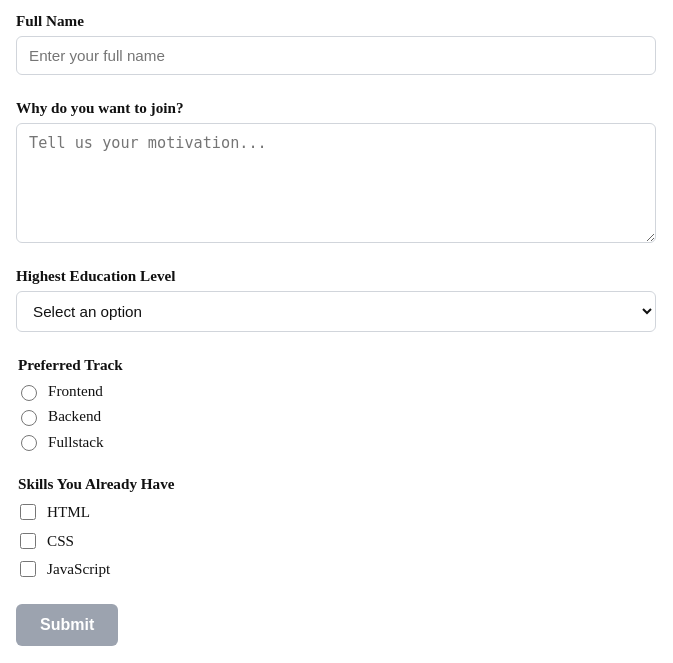
Scenario: QuestionRenderer › enables submit when all required fields are valid
The width and height of the screenshot is (673, 663).
Step 1. Type "Lennox Omondi" into the field labelled "Full Name" → (336, 56), box left=16, top=36, right=656, bottom=75
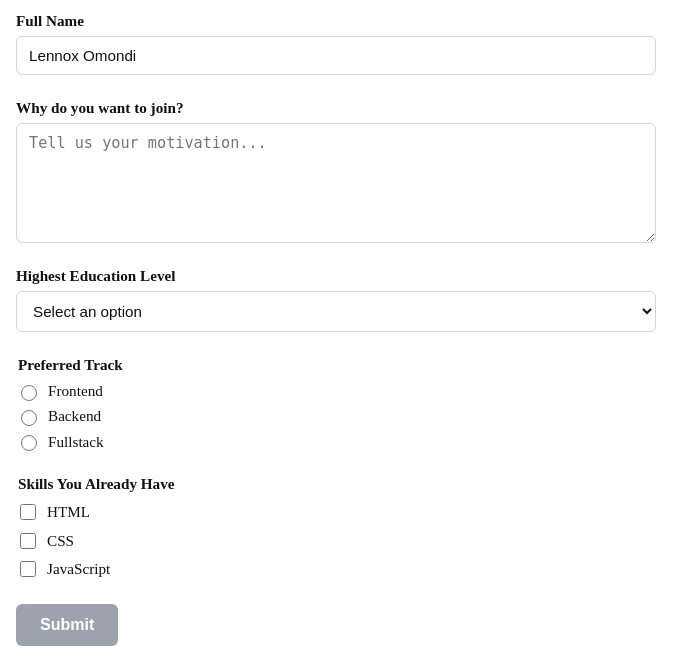
Step 2. Type "I want to join because I am serious about becoming a software engineer." into the text box labelled "Why do you want to join?" → (336, 183), box left=16, top=123, right=656, bottom=243
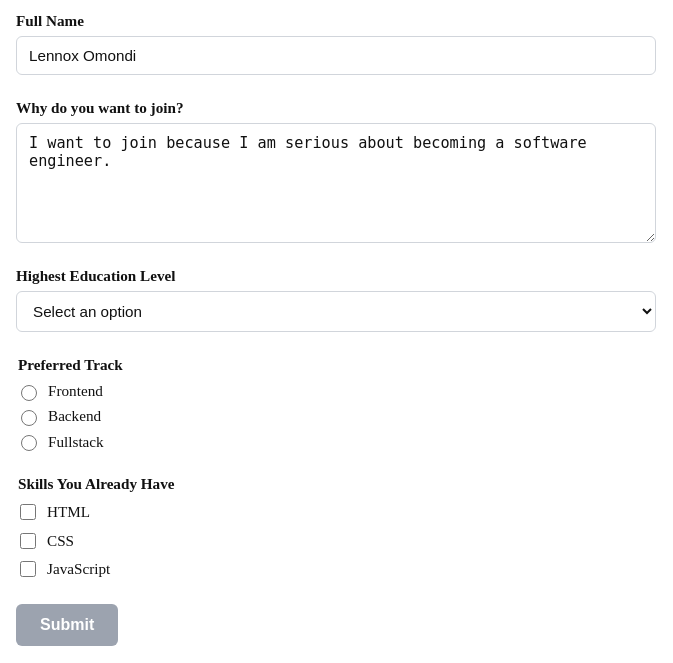
Step 3. Select "Bachelor's Degree" in the dropdown labelled "Highest Education Level" → (336, 312), box left=16, top=291, right=656, bottom=332
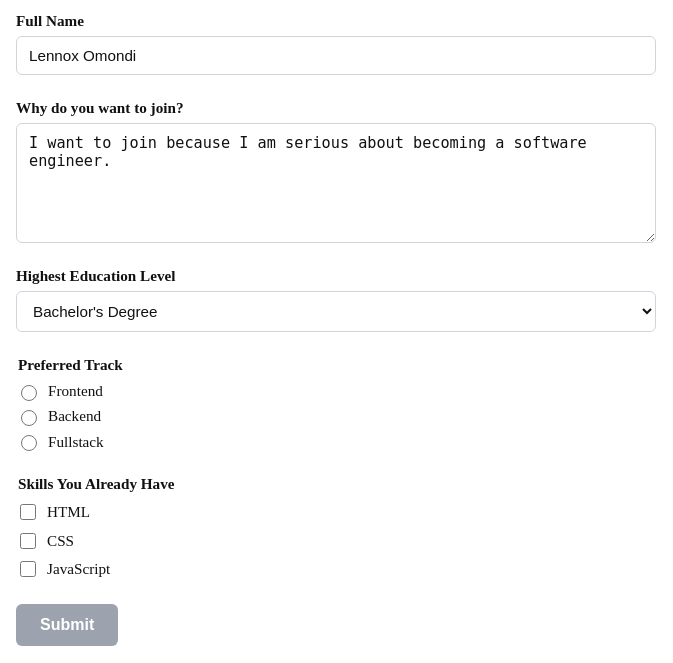
Step 4. Click the radio button labelled "Fullstack" → (29, 443), box left=21, top=435, right=37, bottom=451
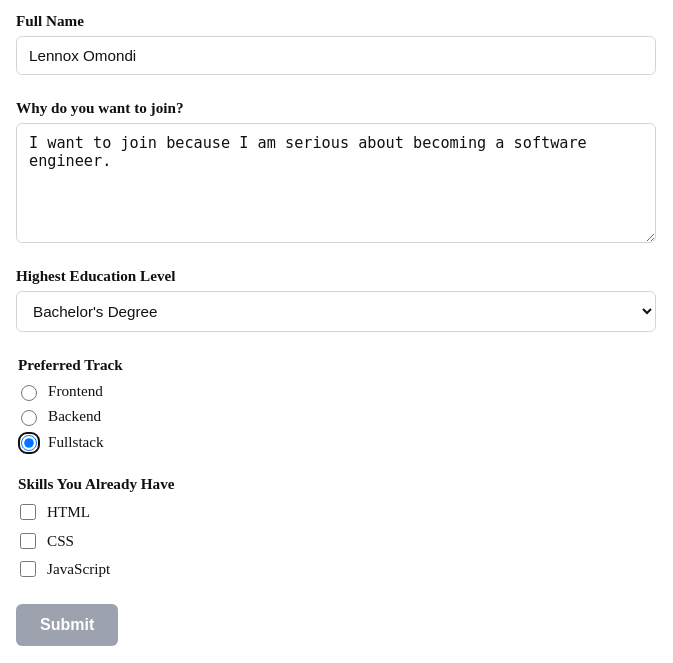
Step 5. Click the checkbox labelled "HTML" → (28, 512), box left=20, top=504, right=36, bottom=520
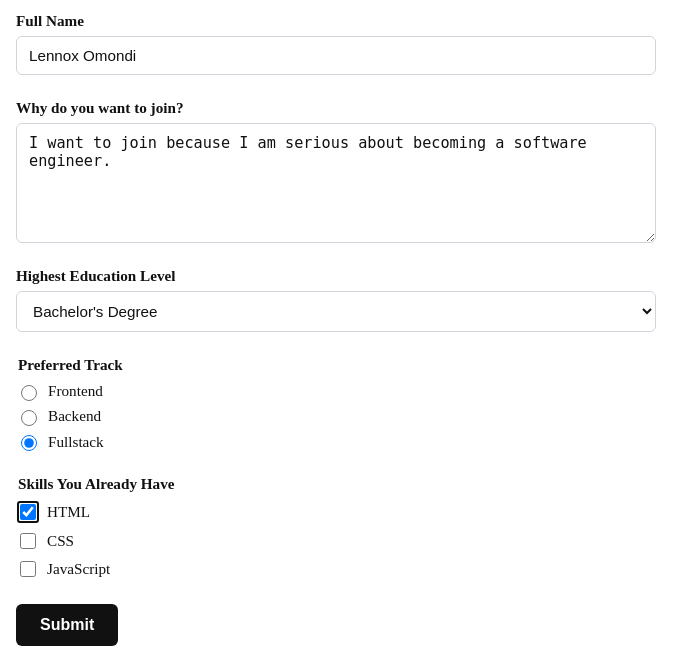
expect the button "Submit" is enabled: met, box left=16, top=604, right=118, bottom=646
